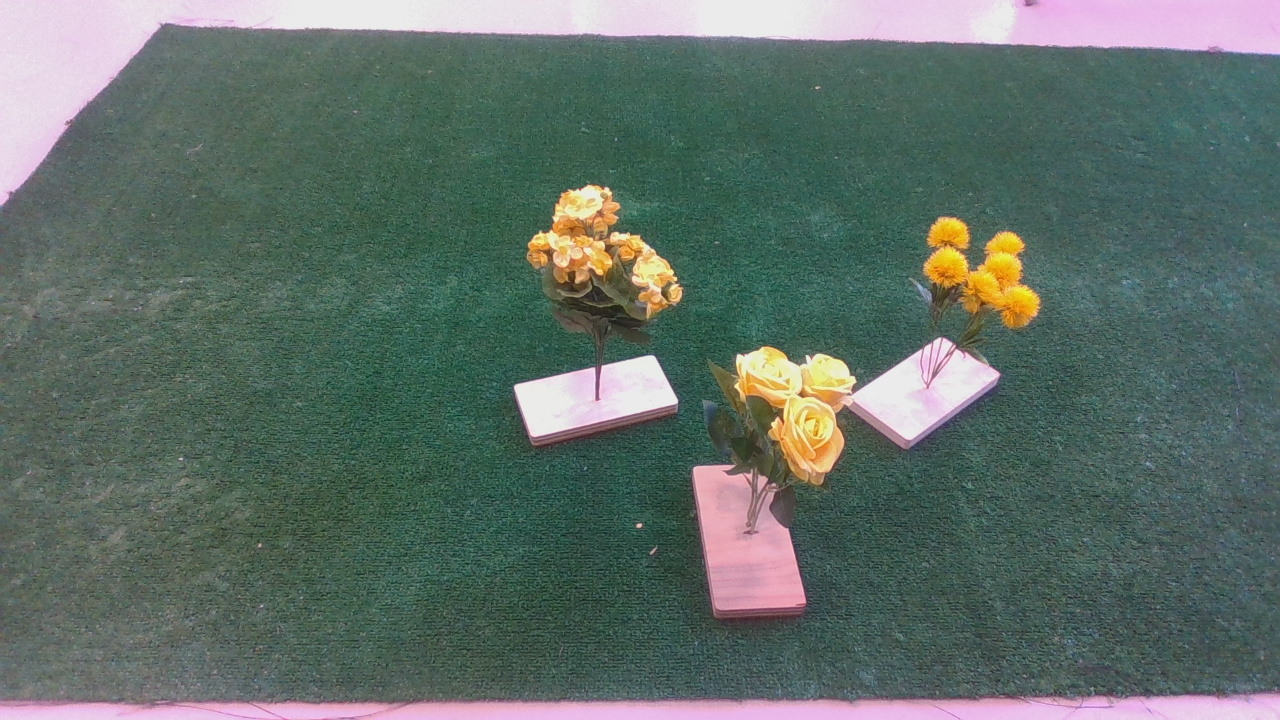dandelion: (906, 214, 1055, 338)
geranium: (501, 173, 690, 352)
rose: (702, 345, 866, 501)
